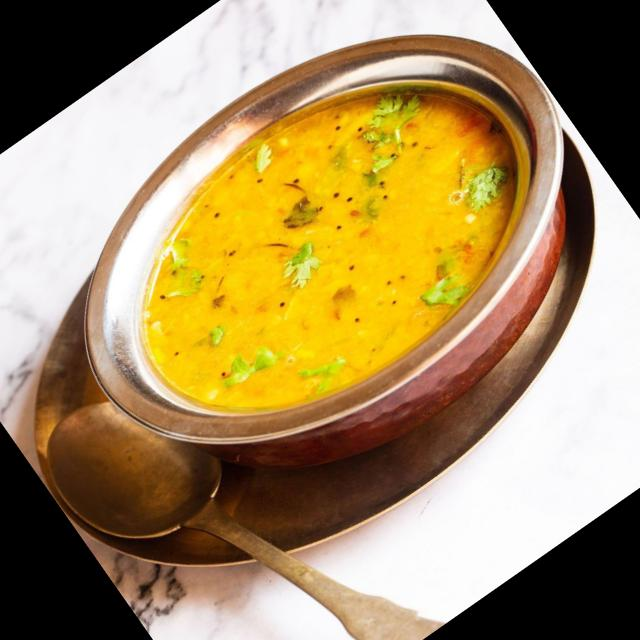dal: (72, 20, 578, 482)
